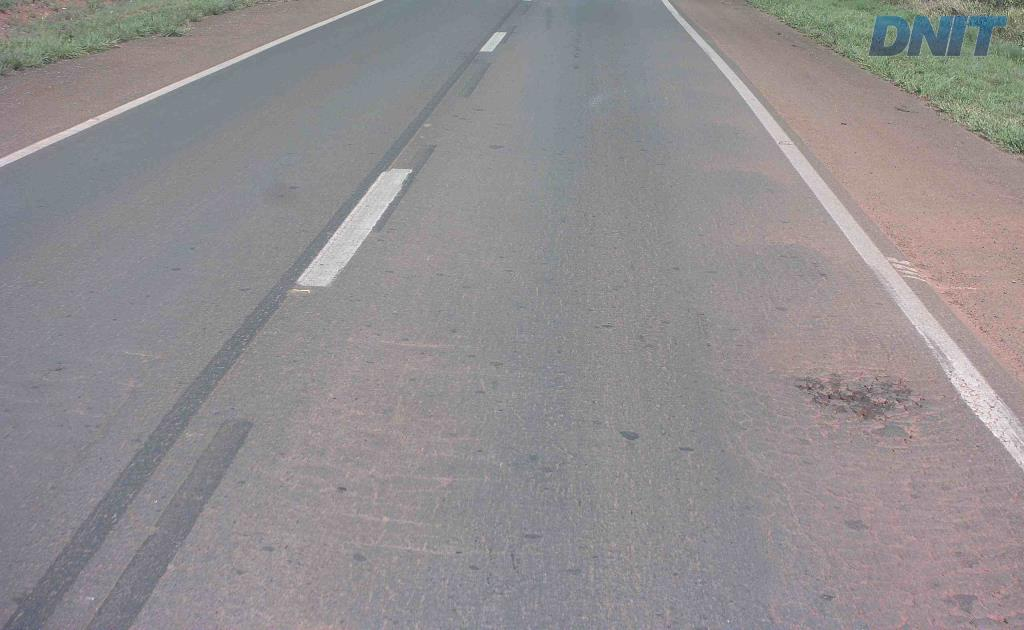crack: (793, 373, 912, 424)
